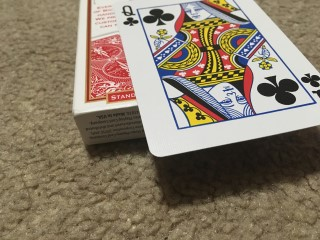QueenOfClubs: (113, 1, 320, 158)
